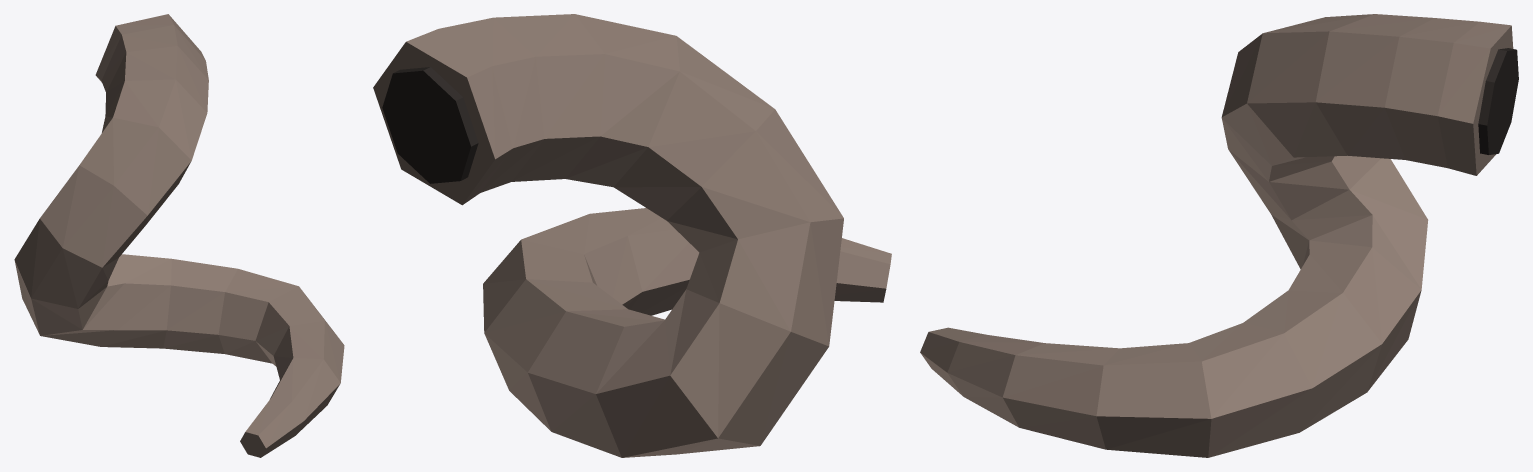
Rendered from vge_exoworm.obj.
The picture shows the model from 3 angles, left to right: view 1: azimuth 30°, elevation 25°; view 2: azimuth 150°, elevation 25°; view 3: azimuth 270°, elevation 25°; orthographic projection. The views are drawn at different scales.
Parts seen in each view (by area): view 1: vge_exoworm_0; view 2: vge_exoworm_0, vge_exoworm_1; view 3: vge_exoworm_0, vge_exoworm_1.
Boxes of the visible parts, x1,y1,x2,y2 form: vge_exoworm_0: [14, 14, 344, 457]; vge_exoworm_0: [373, 14, 891, 457]; vge_exoworm_1: [382, 67, 478, 183]; vge_exoworm_0: [920, 14, 1513, 457]; vge_exoworm_1: [1478, 48, 1518, 154].
Bounding box in the file's own units: 0.4472 × 0.4691 × 0.6482.
